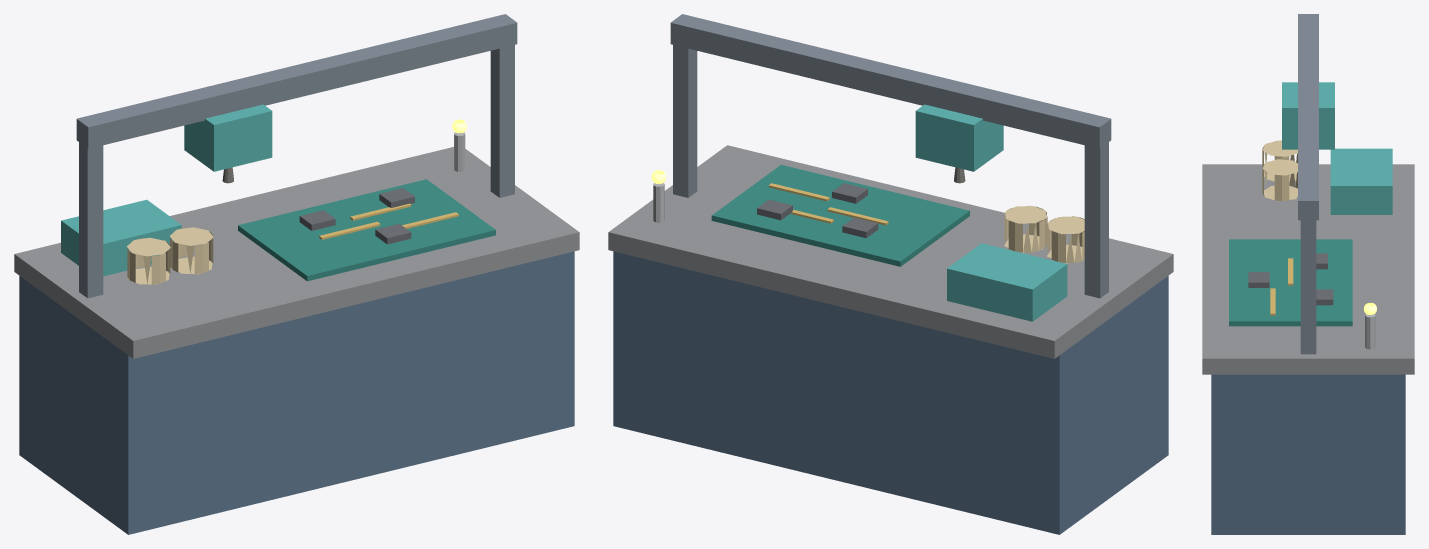
File: electronics-fab-lod1.glb
3 views of the same model, side by side, from view 1: azimuth 30°, elevation 25°; view 2: azimuth 150°, elevation 25°; view 3: azimuth 270°, elevation 25° (orthographic). The views are drawn at different scales.
Visible parts, largest first — view 1: Cabinet, WorkTop, GantryBeam, PCB, GantryHead, PartsBin, GantryPost, GantryPost.001, Spool.001, Spool; view 2: Cabinet, WorkTop, GantryBeam, PCB, PartsBin, GantryHead, GantryPost, GantryPost.001, Spool.001, Spool; view 3: Cabinet, WorkTop, PCB, GantryBeam, PartsBin, GantryPost.001, GantryHead, Spool.001, Spool, LampBase, Chip.002, Chip.
Boxes of the visible parts, left/top/right/bottom form: Cabinet: left=19, top=251, right=574, bottom=534; WorkTop: left=14, top=147, right=579, bottom=358; GantryBeam: left=76, top=14, right=517, bottom=148; PCB: left=238, top=179, right=495, bottom=281; GantryHead: left=184, top=104, right=272, bottom=171; PartsBin: left=61, top=199, right=181, bottom=276; GantryPost: left=79, top=142, right=103, bottom=298; GantryPost.001: left=490, top=45, right=514, bottom=197; Spool.001: left=170, top=227, right=213, bottom=274; Spool: left=127, top=237, right=170, bottom=284; Cabinet: left=613, top=251, right=1168, bottom=534; WorkTop: left=608, top=145, right=1173, bottom=358; GantryBeam: left=670, top=14, right=1111, bottom=148; PCB: left=711, top=164, right=969, bottom=266; PartsBin: left=947, top=243, right=1067, bottom=321; GantryHead: left=915, top=104, right=1003, bottom=171; GantryPost: left=1084, top=142, right=1108, bottom=298; GantryPost.001: left=673, top=45, right=697, bottom=197; Spool.001: left=1004, top=205, right=1047, bottom=252; Spool: left=1047, top=216, right=1084, bottom=263; Cabinet: left=1211, top=374, right=1405, bottom=534; WorkTop: left=1202, top=164, right=1414, bottom=374; PCB: left=1229, top=239, right=1352, bottom=326; GantryBeam: left=1298, top=14, right=1318, bottom=220; PartsBin: left=1330, top=148, right=1392, bottom=214; GantryPost.001: left=1300, top=220, right=1316, bottom=354; GantryHead: left=1282, top=82, right=1334, bottom=149; Spool.001: left=1262, top=159, right=1297, bottom=201; Spool: left=1262, top=140, right=1297, bottom=181; LampBase: left=1365, top=314, right=1375, bottom=349; Chip.002: left=1248, top=272, right=1269, bottom=287; Chip: left=1316, top=289, right=1333, bottom=305.
Bounding box in the file's own units: 2.6 × 2.06 × 1.2.
